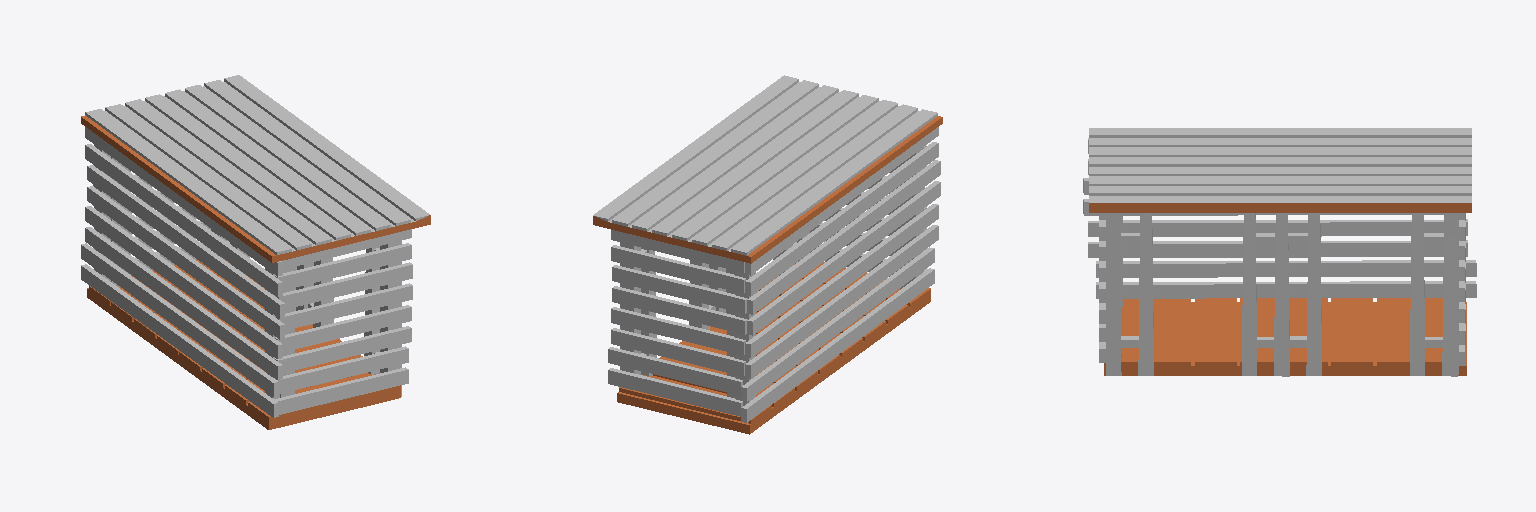
File: Bodega(Empty).obj
The picture shows the model from 3 angles: view 1: azimuth 30°, elevation 25°; view 2: azimuth 150°, elevation 25°; view 3: azimuth 270°, elevation 25°; orthographic projection.
Parts seen in each view (by area): view 1: fence-straight, cabinRoofFlat, cabinFloor, fence-doorway.001; view 2: fence-straight, cabinRoofFlat, cabinFloor, fence-doorway; view 3: cabinRoofFlat, fence-straight, cabinFloor, fence-doorway.001, fence-doorway.
Boxes of the visible parts, x1=… form: fence-straight: x1=81, y1=127, x2=412, y2=417; cabinRoofFlat: x1=81, y1=75, x2=430, y2=262; cabinFloor: x1=87, y1=260, x2=400, y2=429; fence-doorway.001: x1=308, y1=246, x2=387, y2=374; fence-straight: x1=608, y1=127, x2=940, y2=422; cabinRoofFlat: x1=593, y1=75, x2=942, y2=263; cabinFloor: x1=617, y1=262, x2=930, y2=434; fence-doorway: x1=641, y1=248, x2=725, y2=375; cabinRoofFlat: x1=1089, y1=128, x2=1471, y2=212; fence-straight: x1=1083, y1=138, x2=1476, y2=375; cabinFloor: x1=1104, y1=298, x2=1466, y2=375; fence-doorway.001: x1=1121, y1=213, x2=1289, y2=376; fence-doorway: x1=1274, y1=213, x2=1457, y2=376.
Bounding box in the file's own units: 3.61 × 3.99 × 7.75.